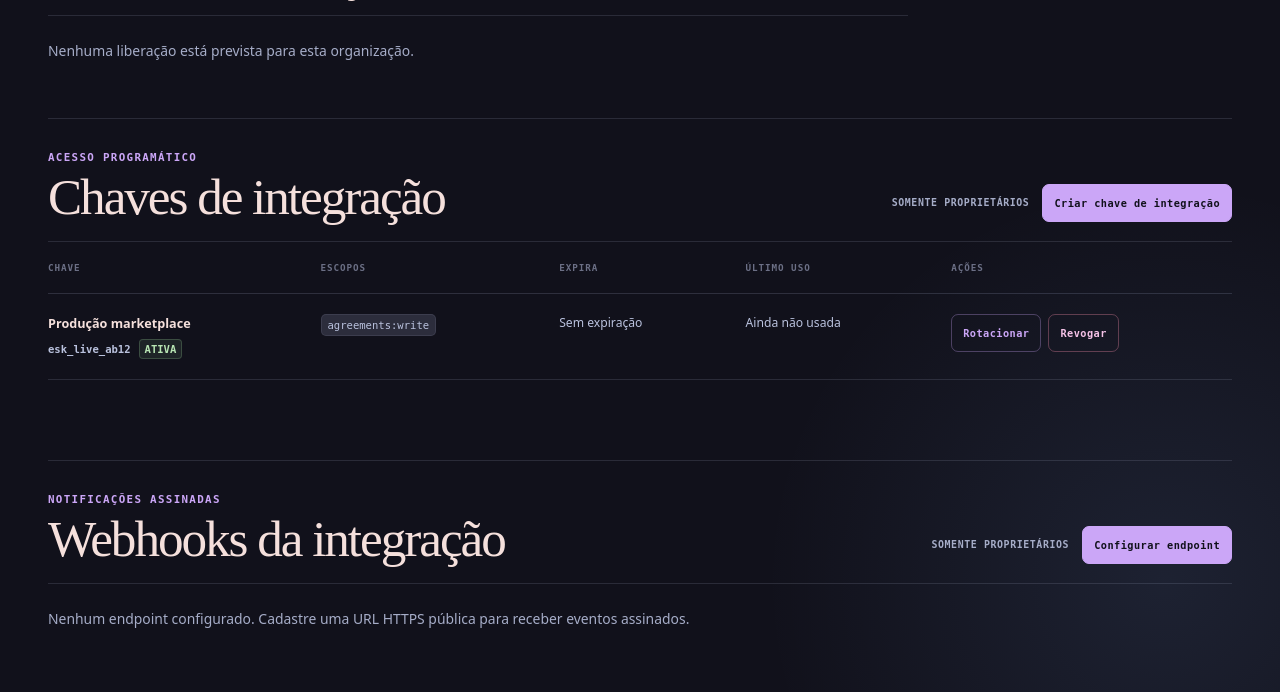
Scenario: painel de chaves da organização › revoga uma chave após confirmação e remove suas ações do inventário
(page scrolled)
Step 1. Click the button with aria-label "Revogar Produção marketplace" → x=1084, y=333, box [1048,314,1119,352]
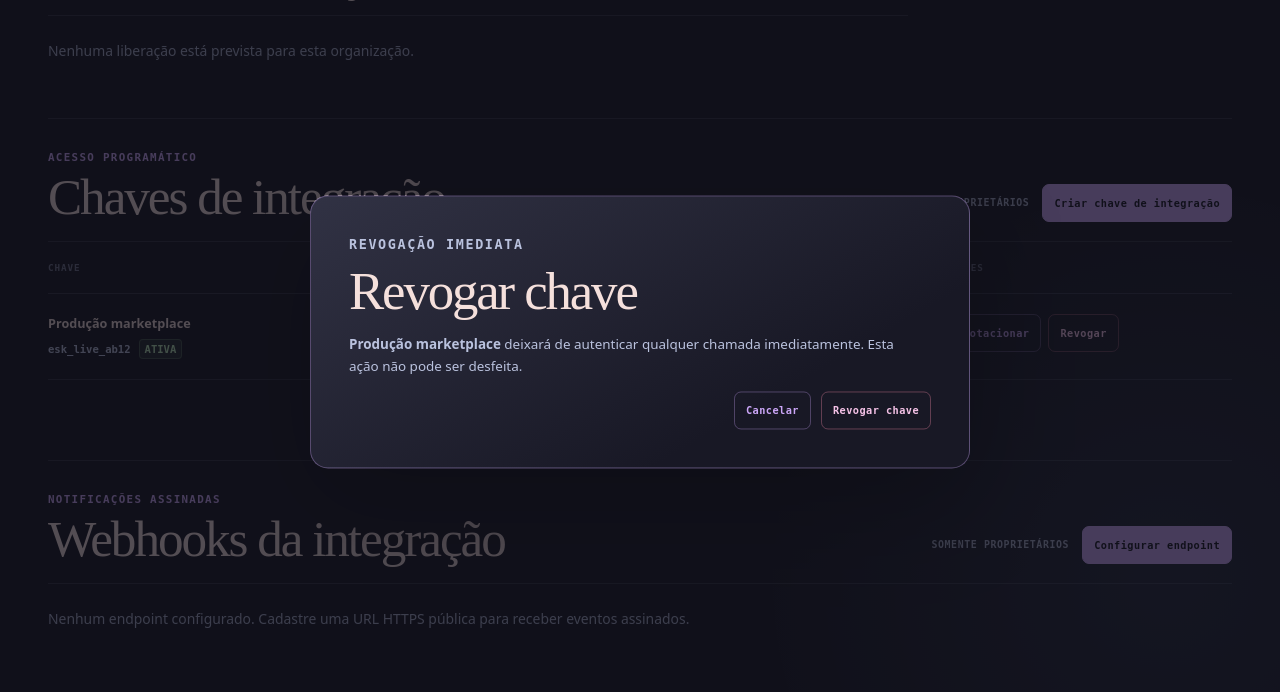
Result: the dialog "Revogar chave" shows "não pode ser desfeita" at [349,336,894,376]
Step 2. Click the button "Revogar chave" → x=876, y=410, box [821,392,931,430]
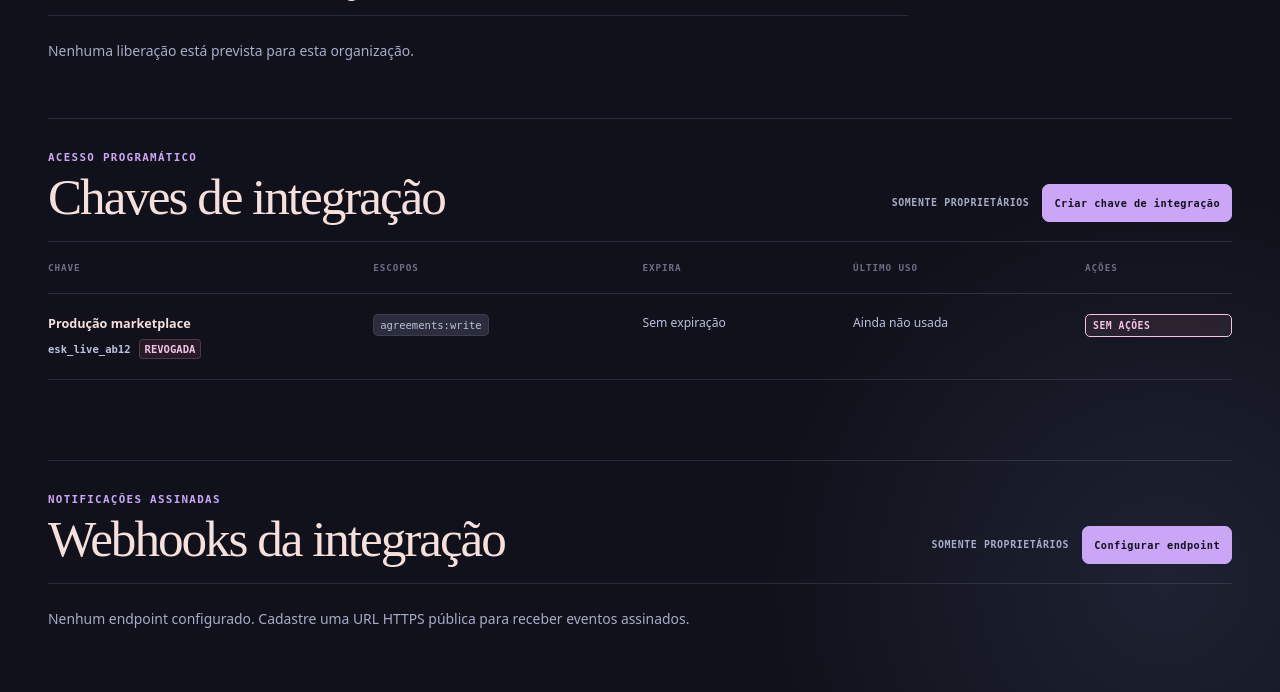
Result: the text "Revogada" is shown at [139,339,201,359]
